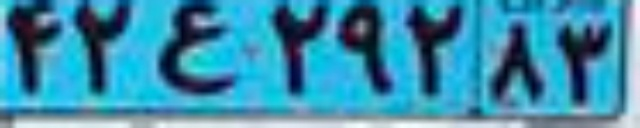2: (404, 4, 461, 97), (73, 0, 127, 93), (273, 5, 324, 96)
3: (555, 21, 610, 106)
4: (7, 0, 65, 94)
8: (483, 22, 543, 101)
9: (337, 6, 395, 96)
ain: (156, 2, 235, 94)
